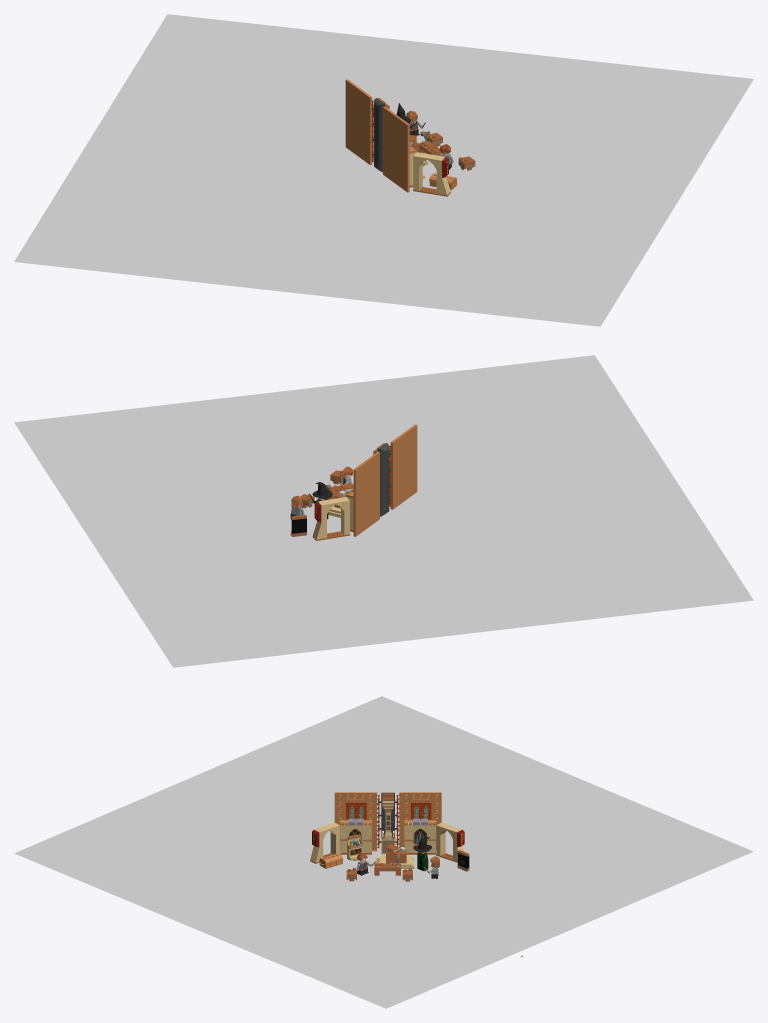
Rendered from harrypotter.glb.
The picture shows the model from 3 angles, top to bottom: view 1: azimuth 30°, elevation 25°; view 2: azimuth 150°, elevation 25°; view 3: azimuth 270°, elevation 25°; orthographic projection. The views are drawn at different scales.
Parts seen in each view (by area): view 1: Plane.010, Cube.035, Cube.079, Cube.032; view 2: Plane.010, Cube.035, Cube.079, Cube.032; view 3: Plane.010, Cube.035, Cube.052, Cube.079, Plane.002.
Part boxes in pixels (<box>): Plane.010: <box>14,14,753,326</box>; Cube.035: <box>345,79,409,192</box>; Cube.079: <box>413,152,450,195</box>; Cube.032: <box>374,98,384,172</box>; Plane.010: <box>14,355,753,667</box>; Cube.035: <box>353,424,417,536</box>; Cube.079: <box>313,497,349,539</box>; Cube.032: <box>378,443,389,516</box>; Plane.010: <box>14,696,753,1008</box>; Cube.035: <box>334,792,441,851</box>; Cube.052: <box>340,821,435,855</box>; Cube.079: <box>310,822,463,862</box>; Plane.002: <box>346,803,431,819</box>.
Size of the model in its own units: 140 by 28.17 by 140.
Materials: 34 (9 with a texture image).
